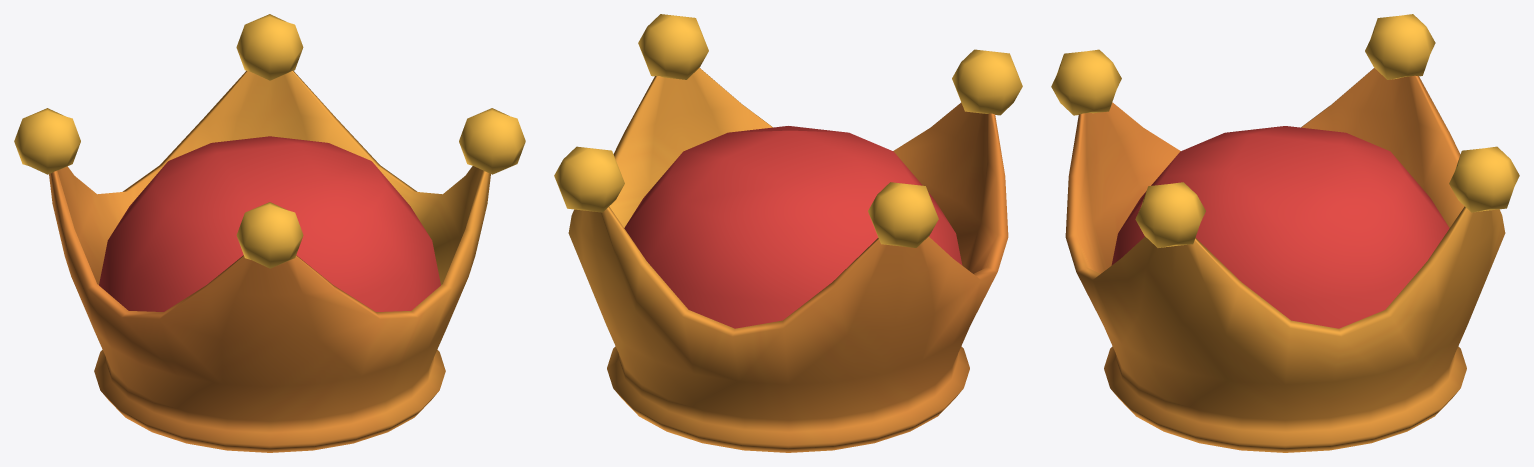
File: crown.glb
3 views of the same model, side by side, from view 1: azimuth 30°, elevation 25°; view 2: azimuth 150°, elevation 25°; view 3: azimuth 270°, elevation 25° (orthographic). The views are drawn at different scales.
Parts seen in each view (by area): view 1: Crown2_Cylinder.009; view 2: Crown2_Cylinder.009; view 3: Crown2_Cylinder.009.
Part boxes in pixels (x1,y1,x2,y2): Crown2_Cylinder.009: (14, 14, 525, 452); Crown2_Cylinder.009: (554, 14, 1022, 452); Crown2_Cylinder.009: (1051, 14, 1519, 452).
Bounding box in the file's own units: 0.5317 × 0.351 × 0.5317.
Materials: 1 (1 with a texture image).
